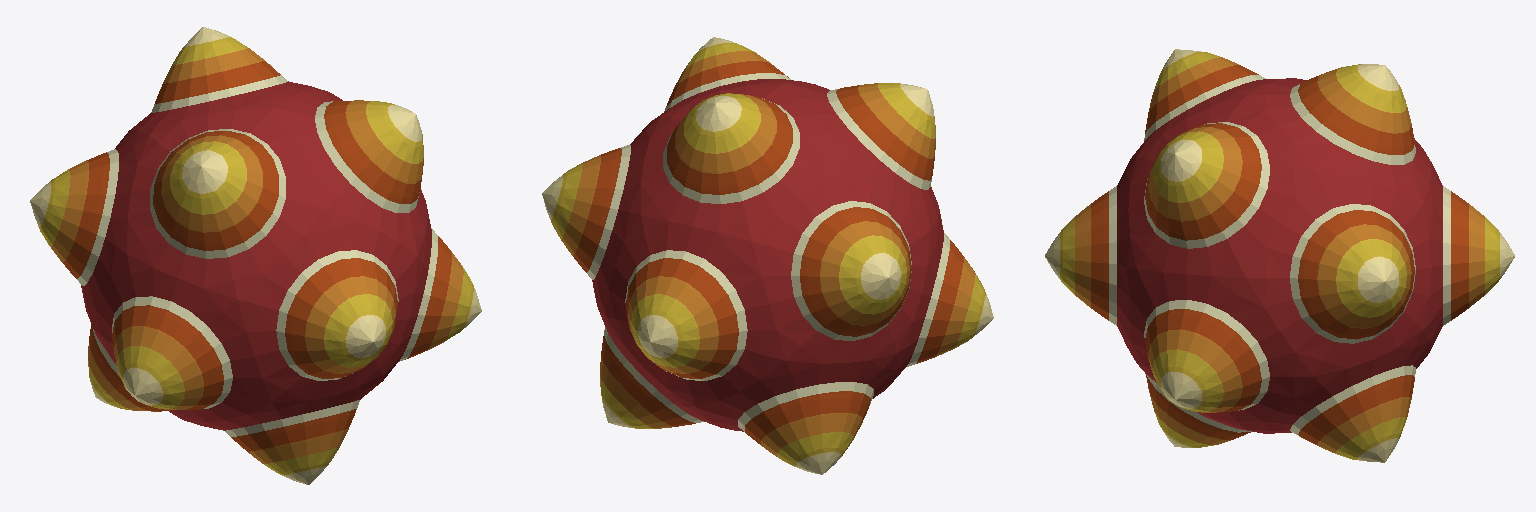
3 views of the same model, side by side, from view 1: azimuth 30°, elevation 25°; view 2: azimuth 150°, elevation 25°; view 3: azimuth 270°, elevation 25° (orthographic).
Visible parts, largest first — view 1: core_11_0; view 2: core_11_0; view 3: core_11_0.
Boxes of the visible parts, x1,y1,x2,y2 form: core_11_0: [30, 27, 481, 484]; core_11_0: [542, 37, 993, 474]; core_11_0: [1045, 49, 1514, 462].
Size of the model in its own units: 0.0499 by 0.0524 by 0.0586.
1 materials, 1 textured.